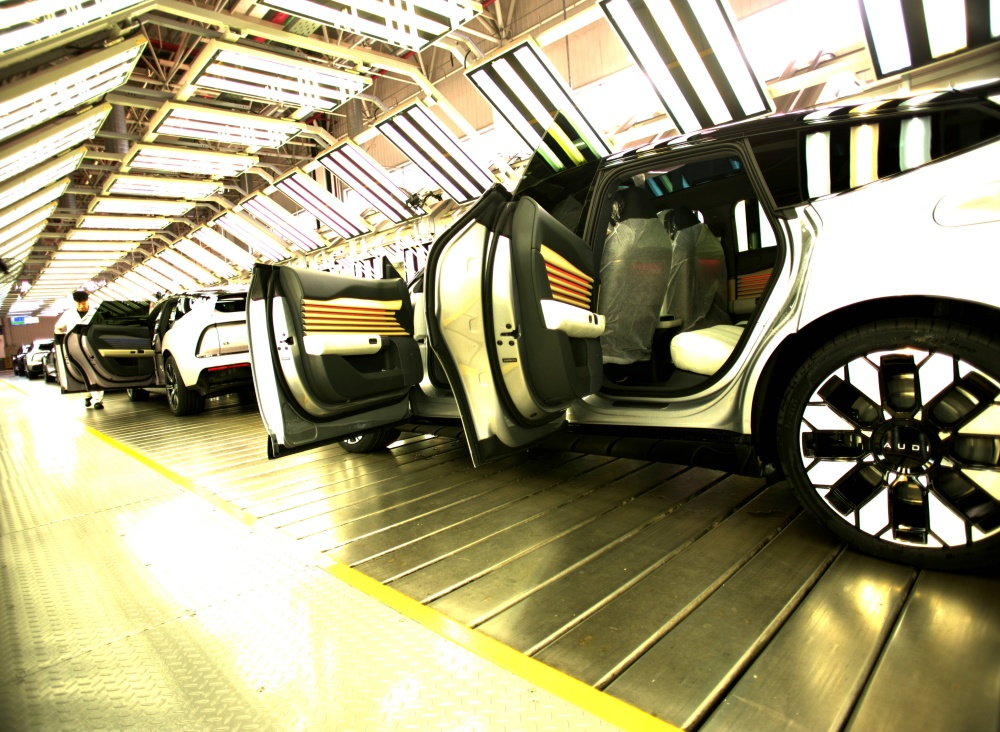armrest_color: (538, 297, 608, 340), (305, 333, 383, 357)
panel_color: (300, 292, 409, 334), (538, 241, 596, 310)
